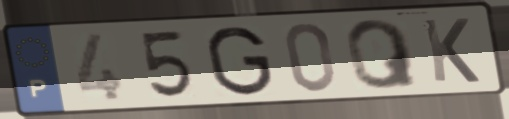0: (281, 21, 339, 94)
4: (73, 30, 126, 105)
5: (137, 29, 196, 100)
G: (203, 24, 276, 98)
K: (418, 16, 483, 85)
Q: (342, 17, 423, 92)
